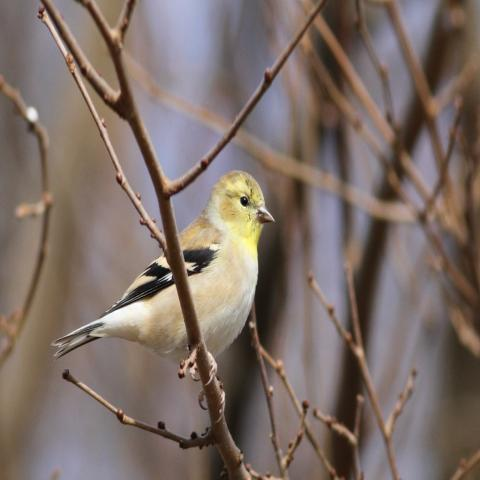bird: (50, 166, 276, 384)
